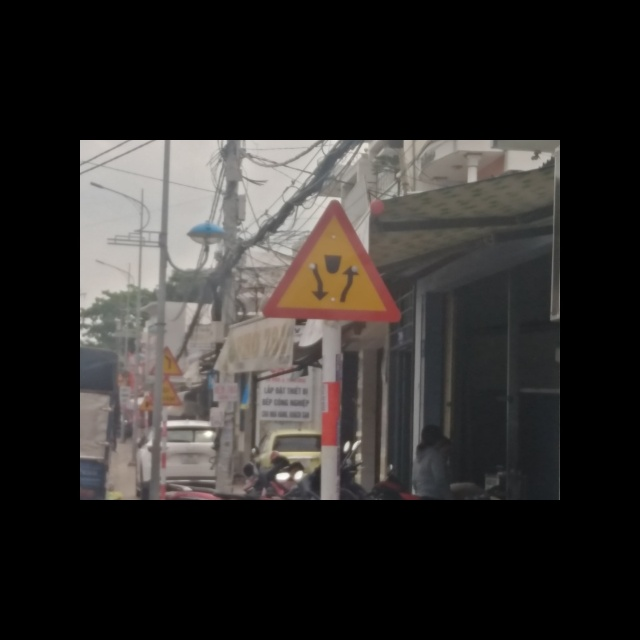Đường đôi: (257, 200, 399, 326)
